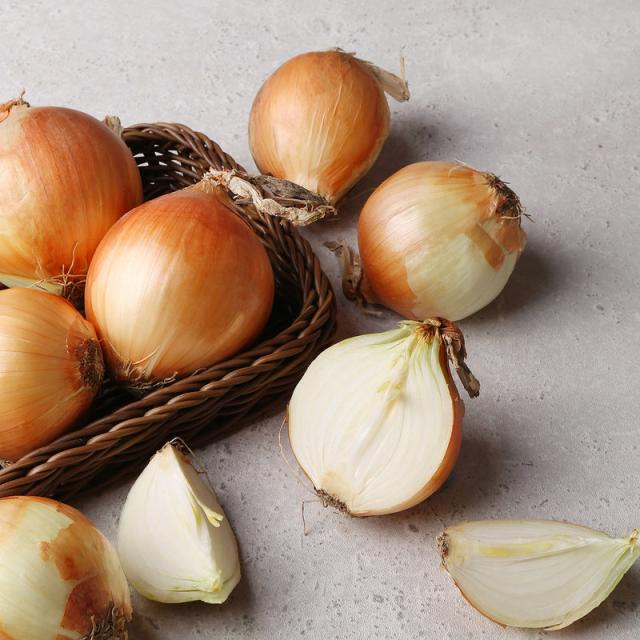onion: (0, 47, 638, 632), (285, 320, 465, 517), (355, 158, 527, 322), (441, 518, 640, 631)
